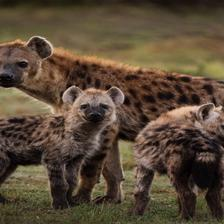hyena: (0, 27, 224, 128), (0, 81, 160, 200)
